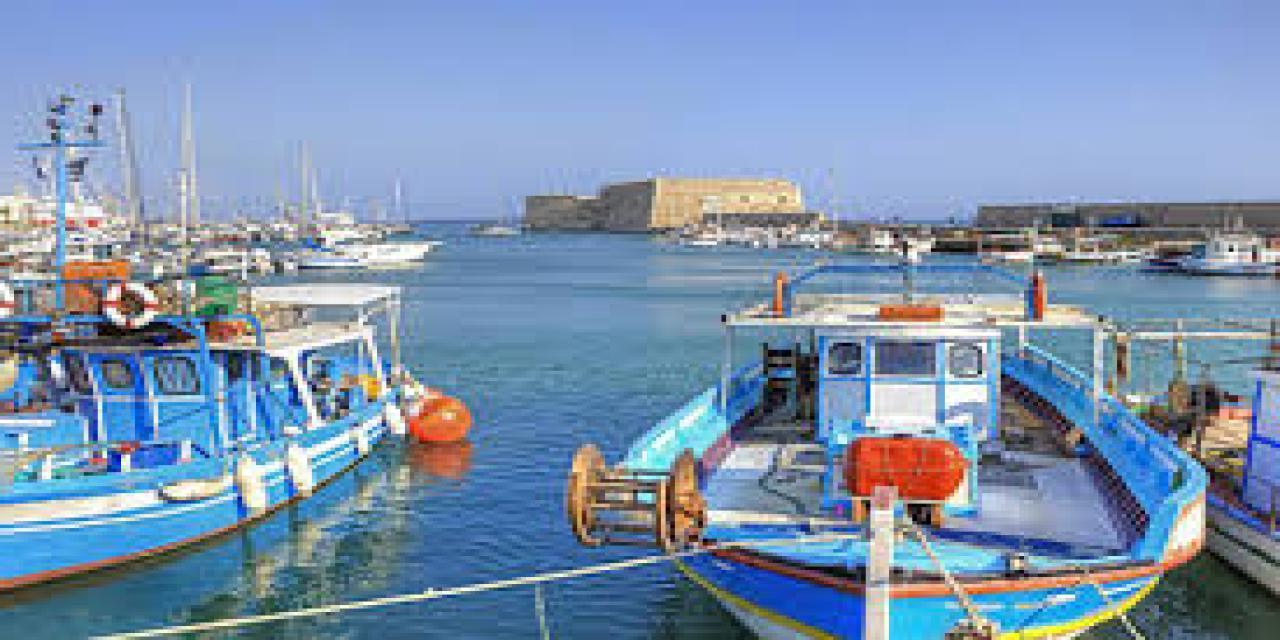Kules: (524, 178, 801, 235)
